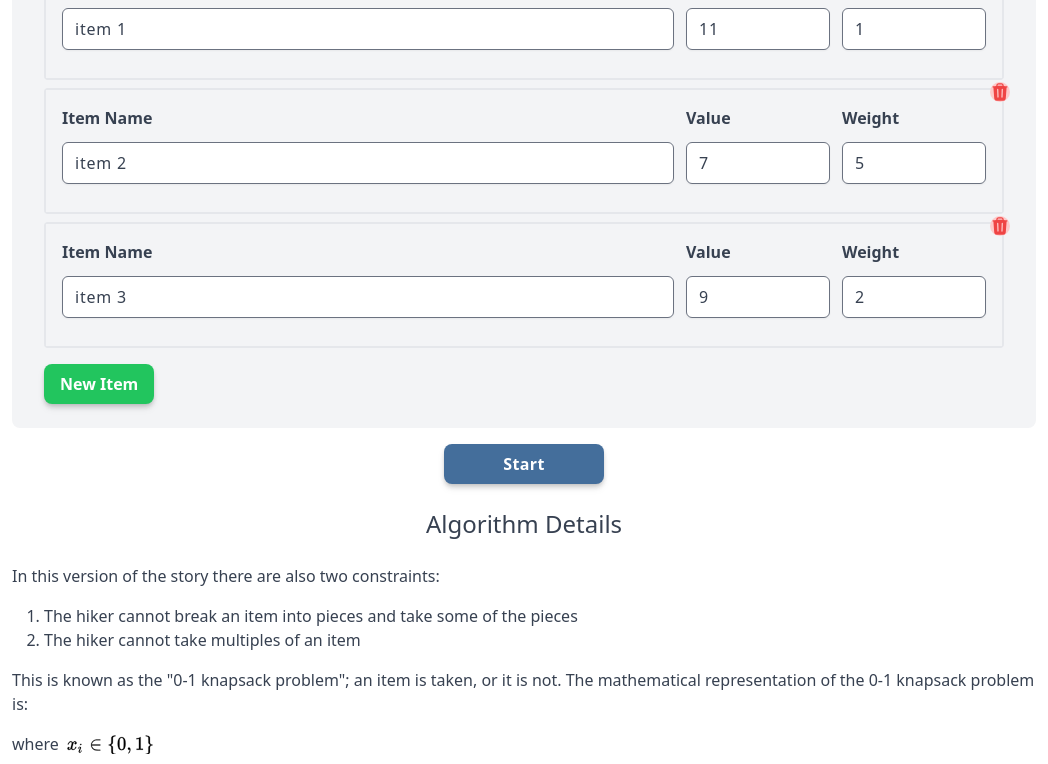
test the setup screen › should add a new default item when the add new item button is clicked
(page scrolled)
Expected: the field showing "item 4" is not shown
Click the button with aria-label "Add new item" at [99, 384], box left=44, top=364, right=154, bottom=404
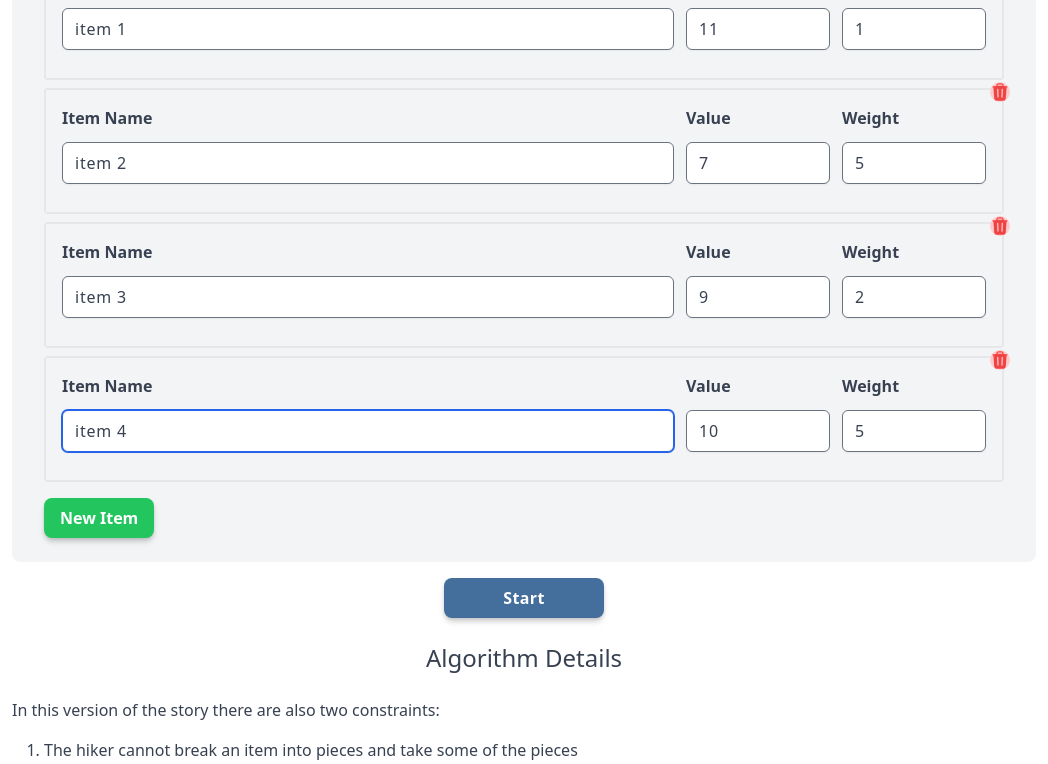
Expected: the field showing "item 4" is shown, left=62, top=410, right=674, bottom=452
